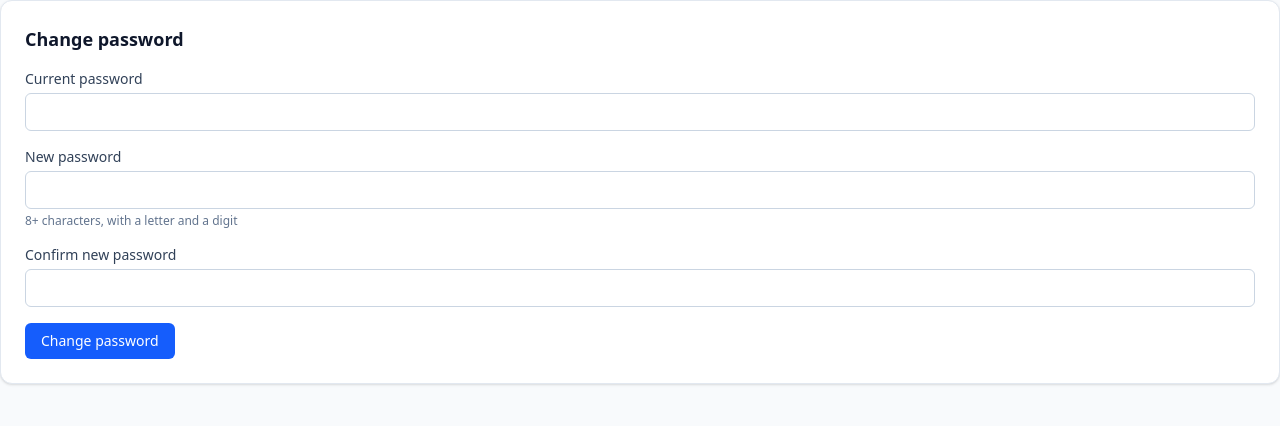
Test: ChangePasswordForm › shows the server error for a wrong current password
Type "WrongPass1" into the password field labelled "Current password". click: (640, 112)
box: [25,93,1255,131]
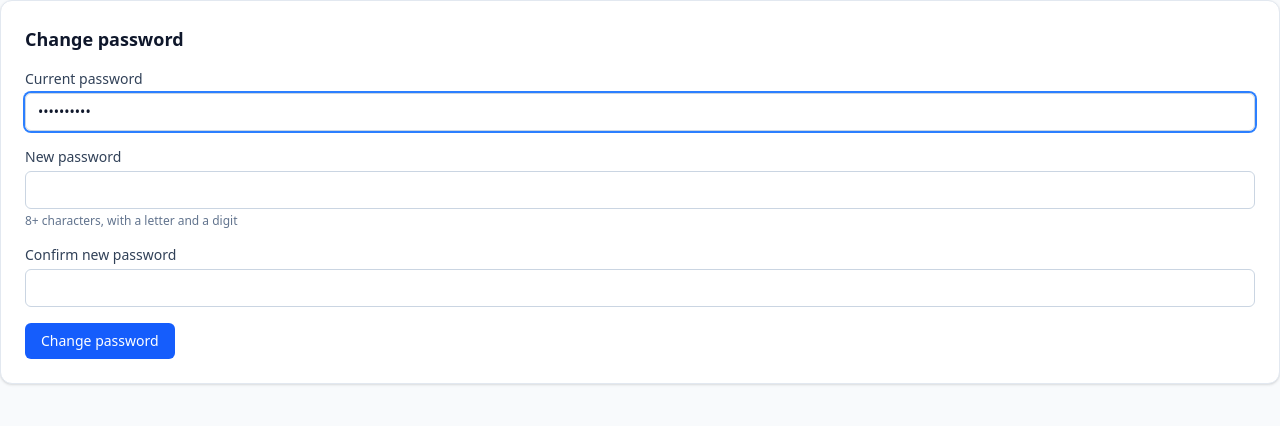
Type "N3wPassword!" into the password field labelled "New password". click: (640, 190)
box: [25,171,1255,209]
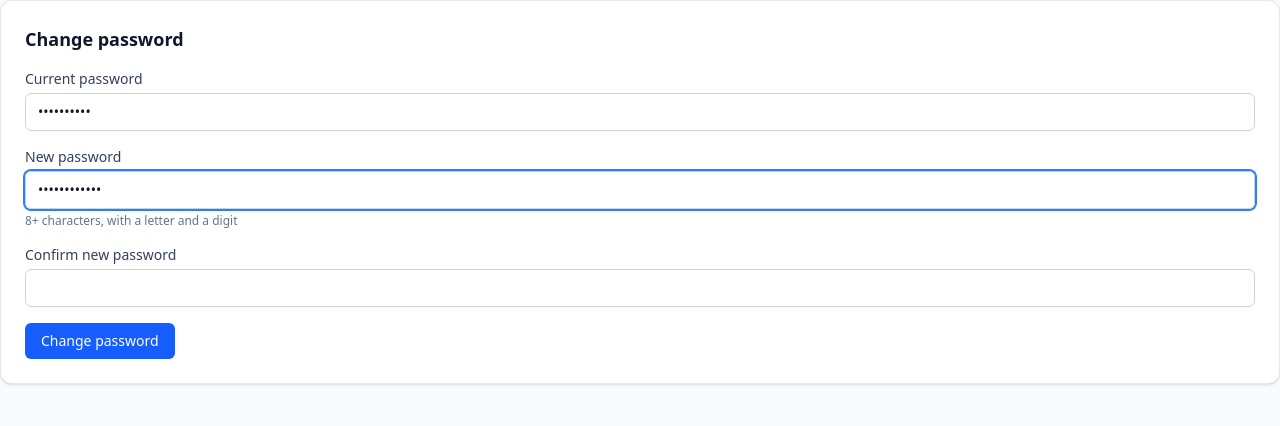
Type "N3wPassword!" into the password field labelled "Confirm new password". click: (640, 288)
box: [25,269,1255,307]
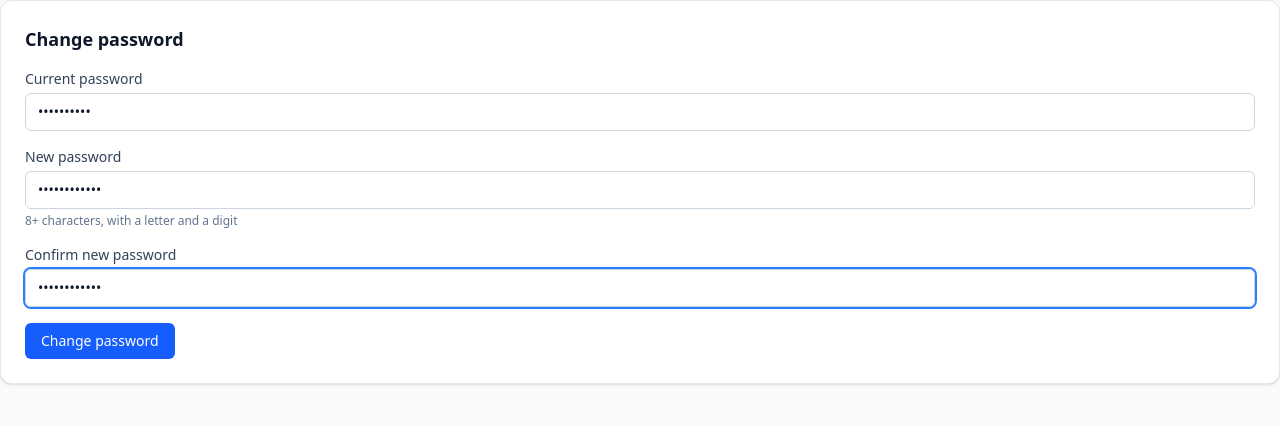
Click the button "Change password". click: (100, 341)
box: [25,323,175,359]
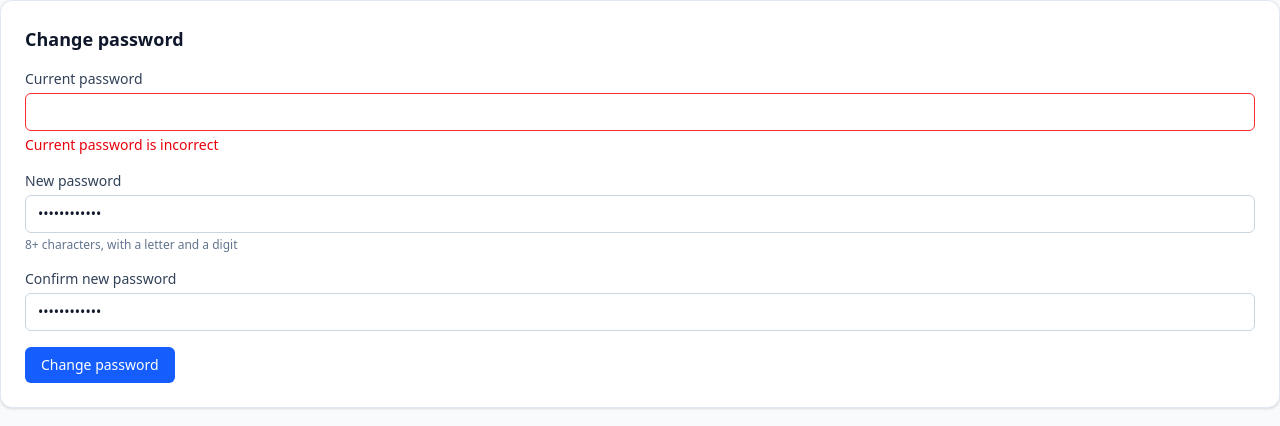
Expected: the text "Current password is incorrect" is shown, [25,135,218,154]
Expected: the password field labelled "Current password" is empty, [25,93,1255,131]
